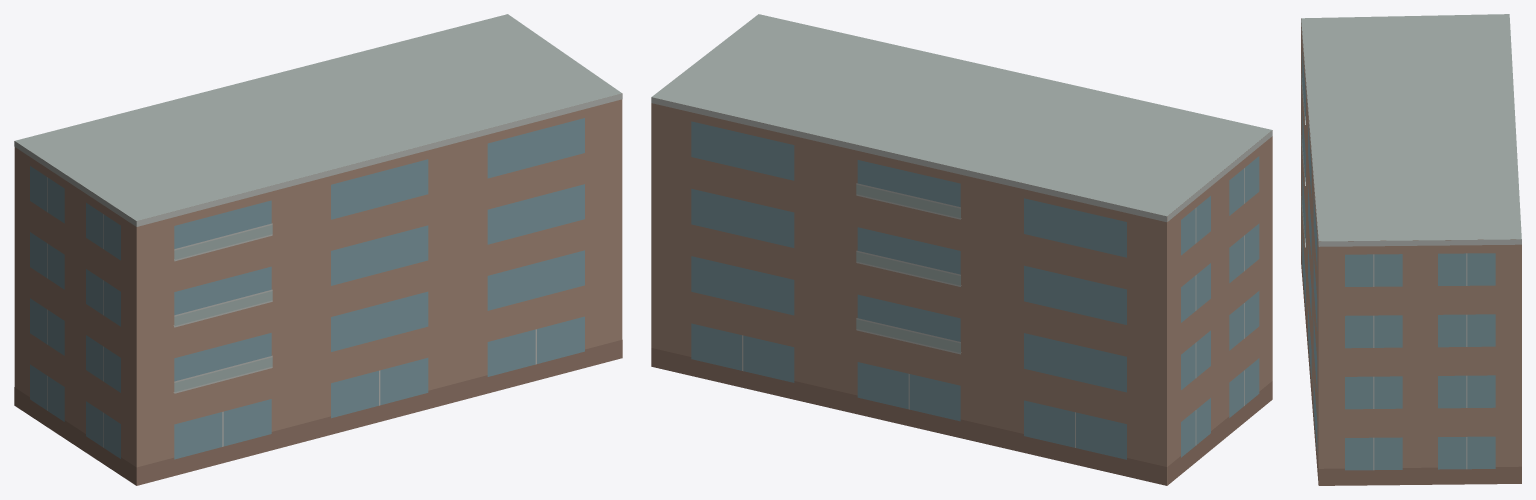
The model's file is survey-upis-32604564.glb.
3 views of the same model, side by side, from view 1: azimuth 30°, elevation 25°; view 2: azimuth 150°, elevation 25°; view 3: azimuth 270°, elevation 25° (orthographic). The views are drawn at different scales.
Visible parts, largest first — view 1: survey-upis-32604564.tmp; view 2: survey-upis-32604564.tmp; view 3: survey-upis-32604564.tmp.
Part boxes in pixels (left/top/right/bottom): survey-upis-32604564.tmp: left=14, top=14, right=622, bottom=485; survey-upis-32604564.tmp: left=651, top=14, right=1272, bottom=485; survey-upis-32604564.tmp: left=1301, top=14, right=1521, bottom=485.
Size of the model in its own units: 22.01 by 11.03 by 9.04.
